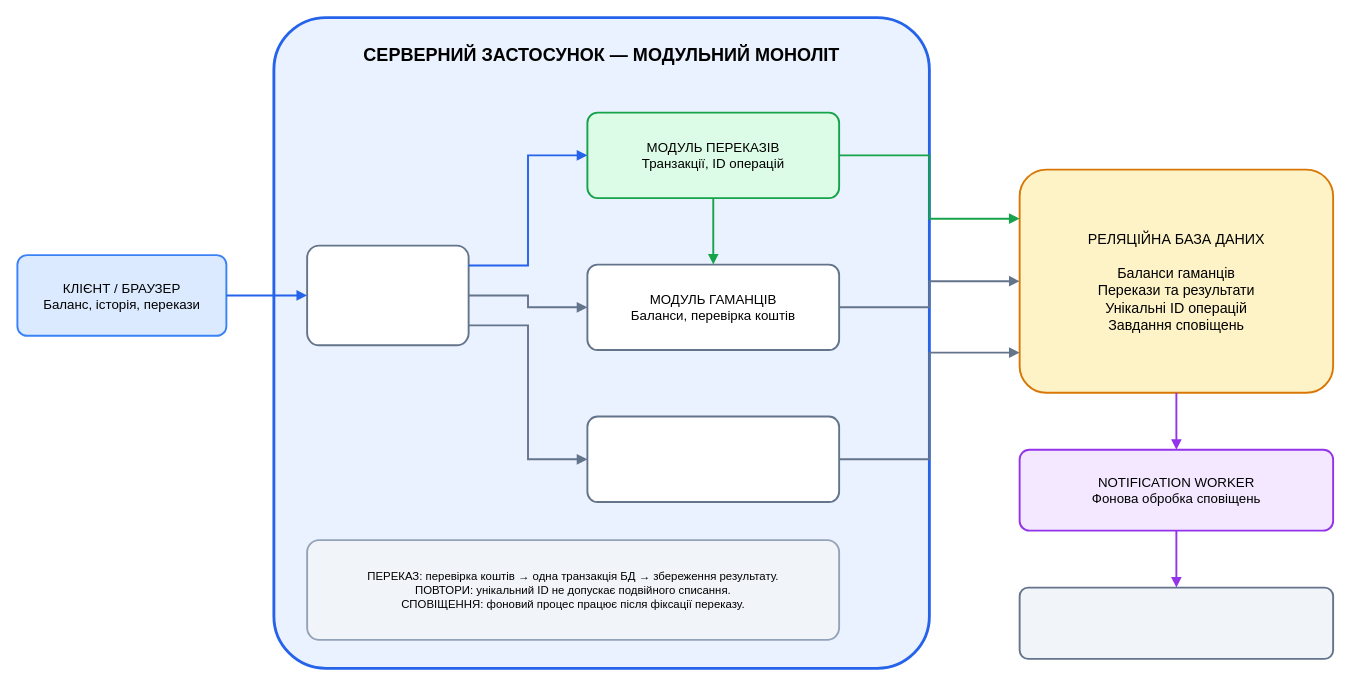
Image size: 1350x686. Some labels were removed from this diagram. Here are the shapes that lost their labels. From the top down, the centre of each, then its label:
the point at 387,295: API / Controller Приймає та перевіряє запити
the point at 713,459: МОДУЛЬ ІСТОРІЇ Перегляд операцій
the point at 1176,622: EMAIL / PUSH СЕРВІС Надсилання повідомлень
